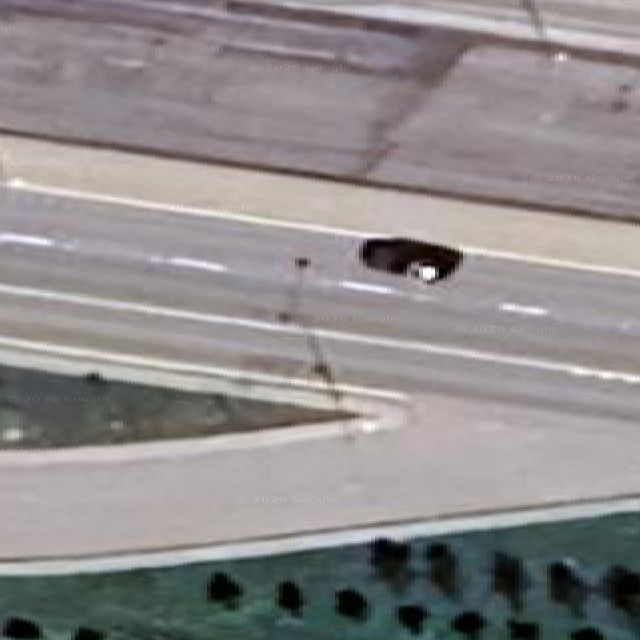car: (360, 238, 462, 283)
